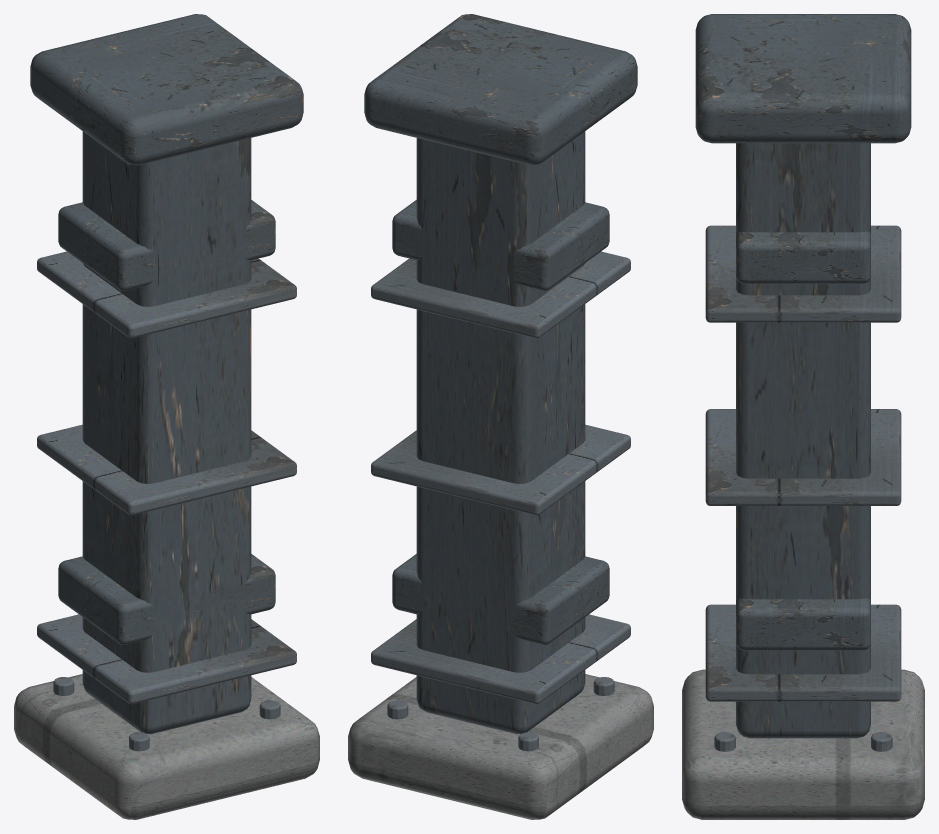
Rendered from pillar.glb.
The picture shows the model from 3 angles, left to right: view 1: azimuth 30°, elevation 25°; view 2: azimuth 150°, elevation 25°; view 3: azimuth 270°, elevation 25°; orthographic projection. The views are drawn at different scales.
Parts seen in each view (by area): view 1: PillarWeb, PillarCap, PillarBase, PillarGusset26, PillarGusset10, PillarGusset41, PillarFlangeA, PillarFlangeB; view 2: PillarWeb, PillarCap, PillarBase, PillarGusset26, PillarGusset10, PillarGusset41, PillarFlangeB, PillarFlangeA; view 3: PillarWeb, PillarCap, PillarBase, PillarGusset10, PillarGusset41, PillarGusset26, PillarFlangeA, PillarFlangeB.
Part boxes in pixels (left/top/right/bottom): PillarWeb: left=82, top=131, right=251, bottom=734; PillarCap: left=30, top=14, right=303, bottom=165; PillarBase: left=14, top=674, right=319, bottom=819; PillarGusset26: left=37, top=424, right=296, bottom=515; PillarGusset10: left=37, top=614, right=296, bottom=704; PillarGusset41: left=37, top=251, right=296, bottom=338; PillarFlangeA: left=58, top=554, right=275, bottom=644; PillarFlangeB: left=58, top=200, right=275, bottom=290; PillarWeb: left=416, top=131, right=585, bottom=734; PillarCap: left=364, top=14, right=637, bottom=165; PillarBase: left=348, top=674, right=653, bottom=819; PillarGusset26: left=371, top=424, right=630, bottom=515; PillarGusset10: left=371, top=614, right=630, bottom=704; PillarGusset41: left=371, top=251, right=630, bottom=338; PillarFlangeB: left=392, top=200, right=609, bottom=290; PillarFlangeA: left=392, top=554, right=609, bottom=644; PillarWeb: left=736, top=143, right=870, bottom=738; PillarCap: left=695, top=14, right=911, bottom=143; PillarBase: left=682, top=669, right=924, bottom=819; PillarGusset10: left=705, top=604, right=901, bottom=701; PillarGusset41: left=705, top=225, right=901, bottom=322; PillarGusset26: left=705, top=409, right=901, bottom=505; PillarFlangeA: left=736, top=598, right=870, bottom=650; PillarFlangeB: left=736, top=231, right=870, bottom=283.
Bounding box in the file's own units: 1.8 × 5.9 × 1.8.
3 materials, 3 textured.
